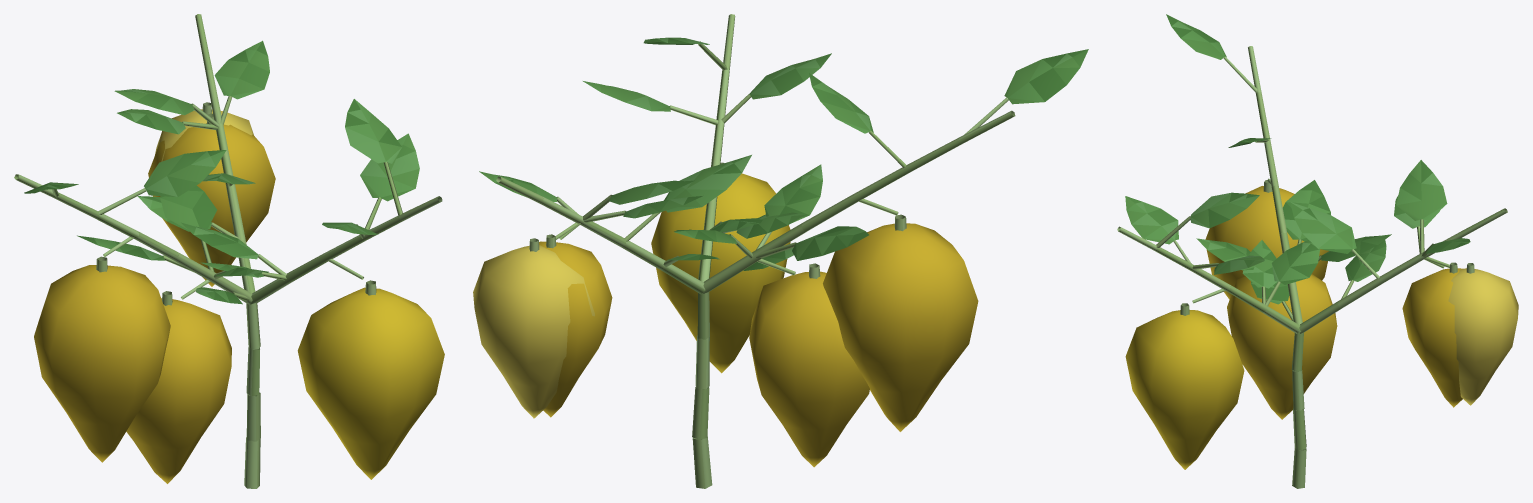
Rendered from poivron_jaune_mur.glb.
3 renders of one model, left to right at view 1: azimuth 30°, elevation 25°; view 2: azimuth 150°, elevation 25°; view 3: azimuth 270°, elevation 25°, orthographic. The views are drawn at different scales.
Visible parts, largest first — view 1: Poivron_Fruits, Poivron_Feuilles, Poivron_Tiges, Poivron_Calices; view 2: Poivron_Fruits, Poivron_Feuilles, Poivron_Tiges; view 3: Poivron_Fruits, Poivron_Feuilles, Poivron_Tiges.
Part boxes in pixels (<box>): Poivron_Fruits: <box>34,109,444,483</box>; Poivron_Feuilles: <box>24,40,419,304</box>; Poivron_Tiges: <box>14,14,442,488</box>; Poivron_Calices: <box>96,102,376,305</box>; Poivron_Fruits: <box>473,173,978,467</box>; Poivron_Feuilles: <box>479,37,1088,270</box>; Poivron_Tiges: <box>496,14,1015,488</box>; Poivron_Fruits: <box>1125,186,1518,469</box>; Poivron_Feuilles: <box>1125,14,1470,304</box>; Poivron_Tiges: <box>1117,46,1507,488</box>.
Bounding box in the file's own units: 0.5886 × 0.5657 × 0.5786.
